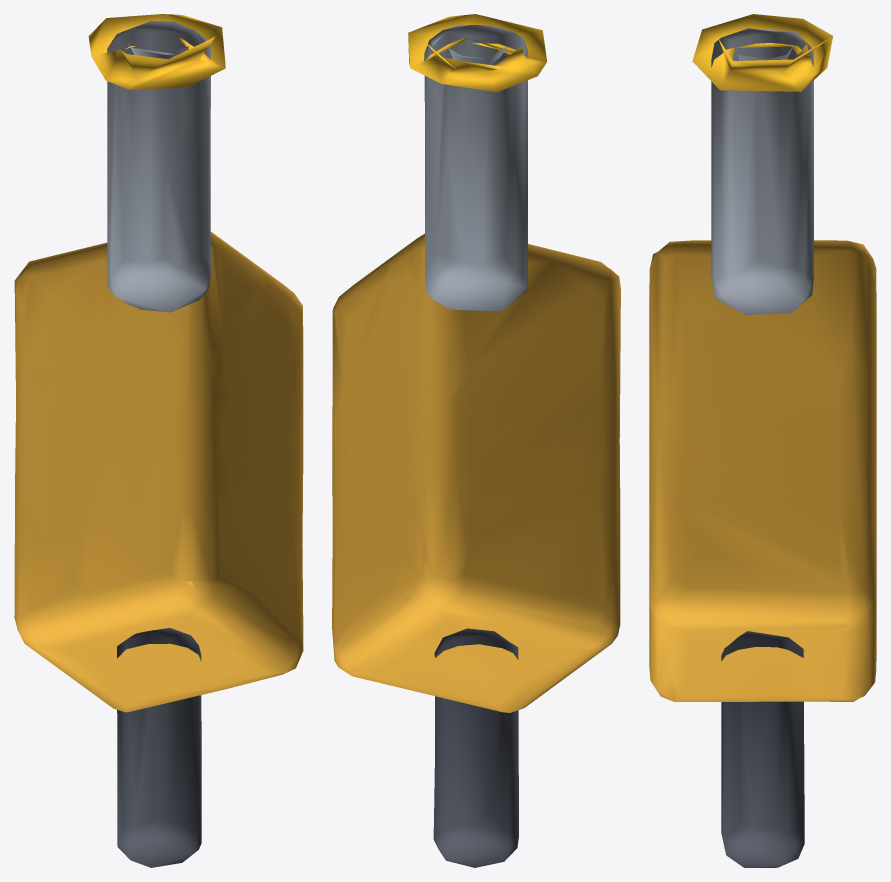
The model's file is wpn_tinkerphant.glb.
The picture shows the model from 3 angles, left to right: view 1: azimuth 30°, elevation 25°; view 2: azimuth 150°, elevation 25°; view 3: azimuth 270°, elevation 25°; orthographic projection.
Parts seen in each view (by area): view 1: body; view 2: body; view 3: body.
Boxes of the visible parts, x1,y1,x2,y2 form: body: (14,14,303,867); body: (332,14,620,867); body: (649,14,876,867).
Bounding box in the file's own units: 0.48 × 1.9 × 0.48.
1 material, 1 textured.
